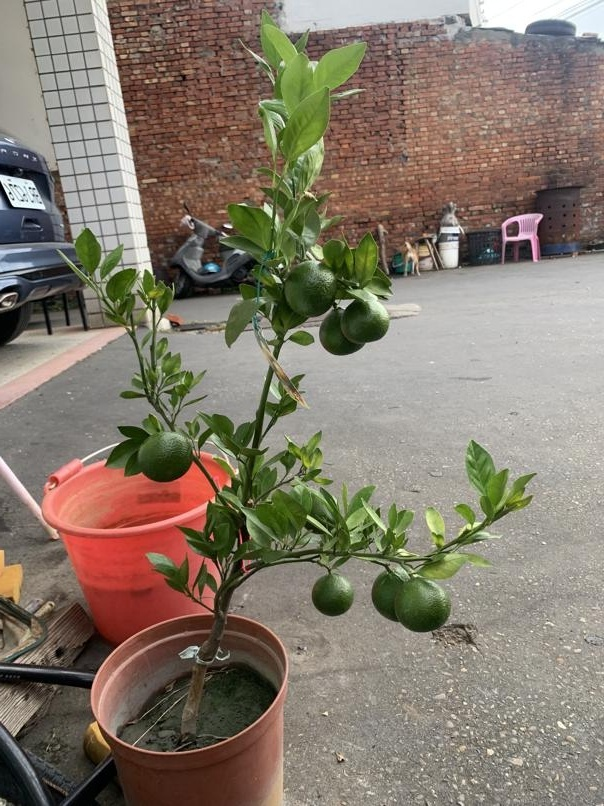Tangerine: (280, 262, 336, 320), (138, 430, 194, 484), (398, 577, 451, 633), (342, 294, 390, 345), (319, 307, 366, 356), (310, 567, 353, 616)
